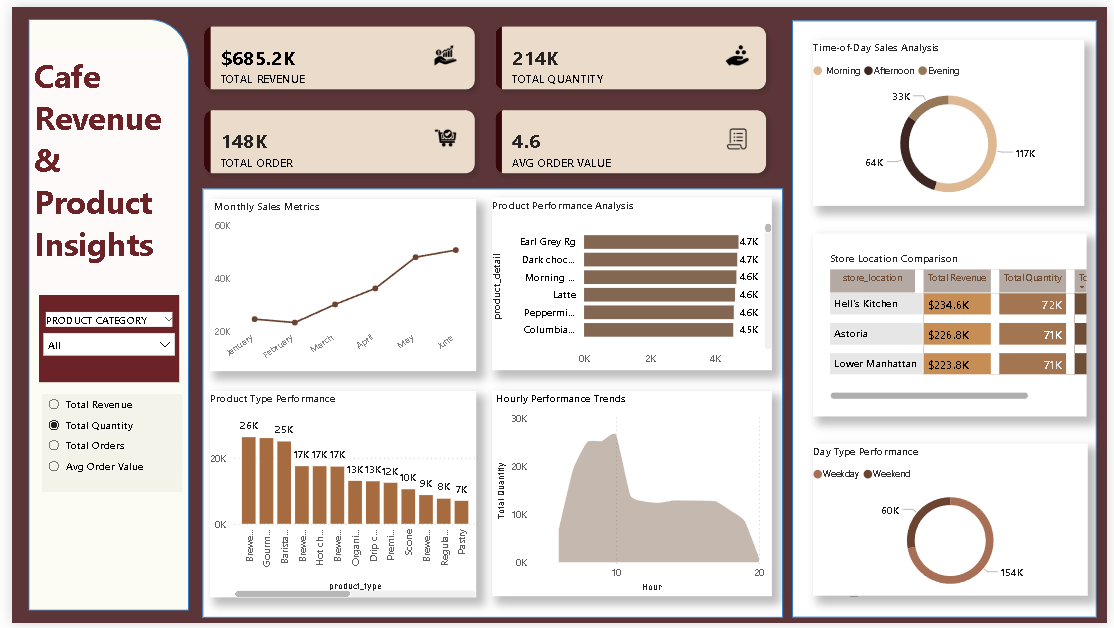

What the dashboard file says about the page in this screenshot:
{"tool":"powerbi","page":{"name":"Page 1","canvas":[1280,720],"ordinal":0},"visuals":[{"type":"shape","box":[222,212,679,502],"z":0},{"type":"shape","box":[913,15.9,356.3,698.3],"z":500},{"type":"shape","box":[19.1,14.3,187.7,691.9],"z":2000},{"type":"textbox","box":[20.7,49.3,178.1,287.9],"z":3000},{"type":"lineChart","title":"Monthly Sales Metrics","fields":{"Category":["Transactions.transaction_date.Variation.Date Hierarchy.Year","Transactions.transaction_date.Variation.Date Hierarchy.Month","Transactions.transaction_date.Variation.Date Hierarchy.Day"],"Y":["Transactions.Total Quantity"]},"box":[231,224,311,201],"z":4000},{"type":"clusteredBarChart","title":"Product Performance Analysis","fields":{"Category":["Transactions.product_detail"],"Y":["Transactions.Total Quantity"]},"box":[562,223,327,202],"z":5000},{"type":"cardVisual","fields":{"Data":["Transactions.Total Revenue","Transactions.Total Quantity","Transactions.Total Orders","Transactions.Avg Order Value"]},"box":[206.8,4.8,693.5,206.8],"z":6000},{"type":"slicer","fields":{"Values":["Metrics.Metrics"]},"box":[35,453.3,163.8,114.5],"z":7000},{"type":"pieChart","title":"Time-of-Day Sales Analysis","fields":{"Category":["Transactions.Time Bucket"],"Y":["Transactions.Total Quantity"]},"box":[936,38,317,194],"z":8000},{"type":"areaChart","title":"Hourly Performance Trends","fields":{"Category":["Transactions.Hour"],"Y":["Transactions.Total Quantity"]},"box":[562,449,327,240],"z":10000},{"type":"pivotTable","title":"Store Location Comparison","fields":{"Rows":["Transactions.store_location"],"Values":["Transactions.Total Revenue","Transactions.Total Quantity","Transactions.Total Orders"]},"box":[936,265,320,214],"z":11000},{"type":"clusteredColumnChart","title":"Product Type Performance","fields":{"Category":["Transactions.product_type"],"Y":["Transactions.Total Quantity"]},"box":[231,449,311,241],"z":12000},{"type":"slicer","title":"FILTER PANEL","fields":{"Values":["Transactions.product_category"]},"box":[31.8,337.2,163.8,101.8],"z":13000},{"type":"donutChart","title":"Day Type Performance","fields":{"Category":["Transactions.Day Type"],"Y":["Transactions.Total Quantity"]},"box":[936,511,321,178],"z":14000}]}

Visuals, with their boxes in screenshot pixels (x1, y1, x2, y2), scaled from the page's 1280x720 canvas onto the 1114x628 screenshot:
shape: locate(193, 185, 784, 623)
shape: locate(795, 14, 1105, 623)
shape: locate(17, 12, 180, 616)
textbox: locate(18, 43, 173, 294)
"Monthly Sales Metrics" lineChart: locate(201, 195, 472, 371)
"Product Performance Analysis" clusteredBarChart: locate(489, 195, 774, 371)
cardVisual - Transactions.Total Revenue x Transactions.Total Quantity: locate(180, 4, 784, 185)
slicer - Metrics.Metrics: locate(30, 395, 173, 495)
"Time-of-Day Sales Analysis" pieChart: locate(815, 33, 1091, 202)
"Hourly Performance Trends" areaChart: locate(489, 392, 774, 601)
"Store Location Comparison" pivotTable: locate(815, 231, 1093, 418)
"Product Type Performance" clusteredColumnChart: locate(201, 392, 472, 602)
"FILTER PANEL" slicer: locate(28, 294, 170, 383)
"Day Type Performance" donutChart: locate(815, 446, 1094, 601)
